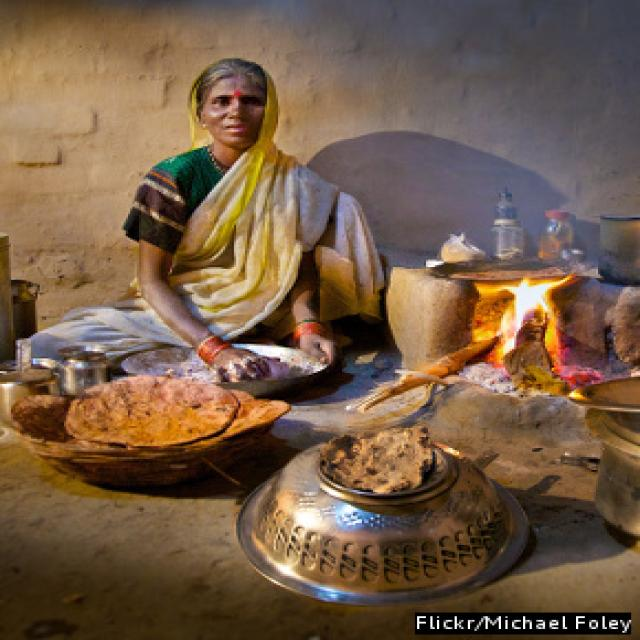fire: (496, 275, 572, 355)
